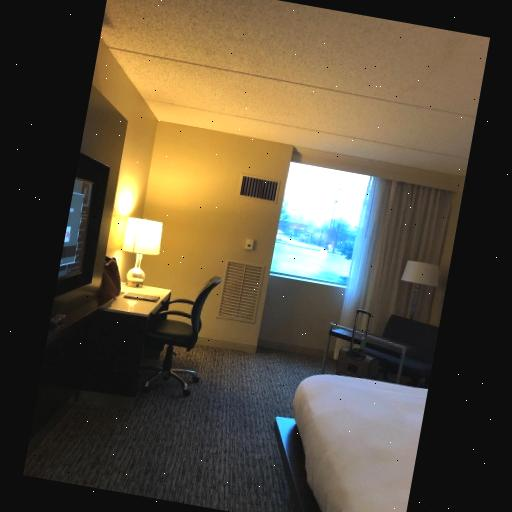chair: (140, 262, 222, 398)
clean_floor: (19, 340, 323, 512)
lamp: (108, 210, 172, 292), (378, 250, 442, 326)
organized table: (86, 284, 175, 396)
